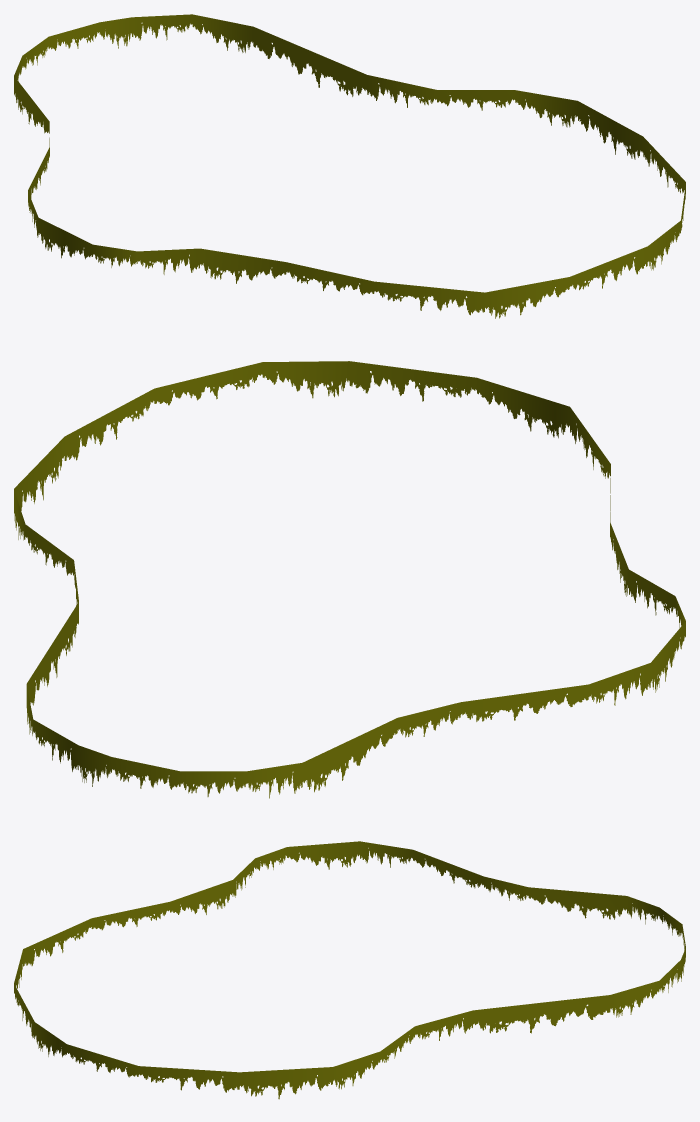
File: grassTopFringe_D.fbx
The picture shows the model from 3 angles, top to bottom: view 1: azimuth 30°, elevation 25°; view 2: azimuth 150°, elevation 25°; view 3: azimuth 270°, elevation 25°; orthographic projection. The views are drawn at different scales.
Parts seen in each view (by area): view 1: grassTopEdgeFringe_D; view 2: grassTopEdgeFringe_D; view 3: grassTopEdgeFringe_D.
Part boxes in pixels (bbox=[...]): grassTopEdgeFringe_D: bbox=[14, 14, 685, 318]; grassTopEdgeFringe_D: bbox=[14, 361, 685, 798]; grassTopEdgeFringe_D: bbox=[14, 841, 685, 1099].
Size of the model in its own units: 2365 by 179 by 2908.
